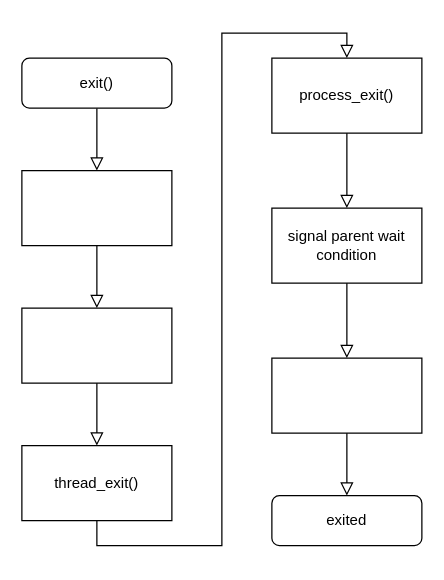
Image size: 444x580. Some labels were removed from this diagram. Each missing label, with the box of its shape:
close all files: (21, 307, 172, 383)
print terminnation message: (21, 169, 172, 246)
sleep until parent reap (parent get exit status of child): (271, 357, 422, 433)
